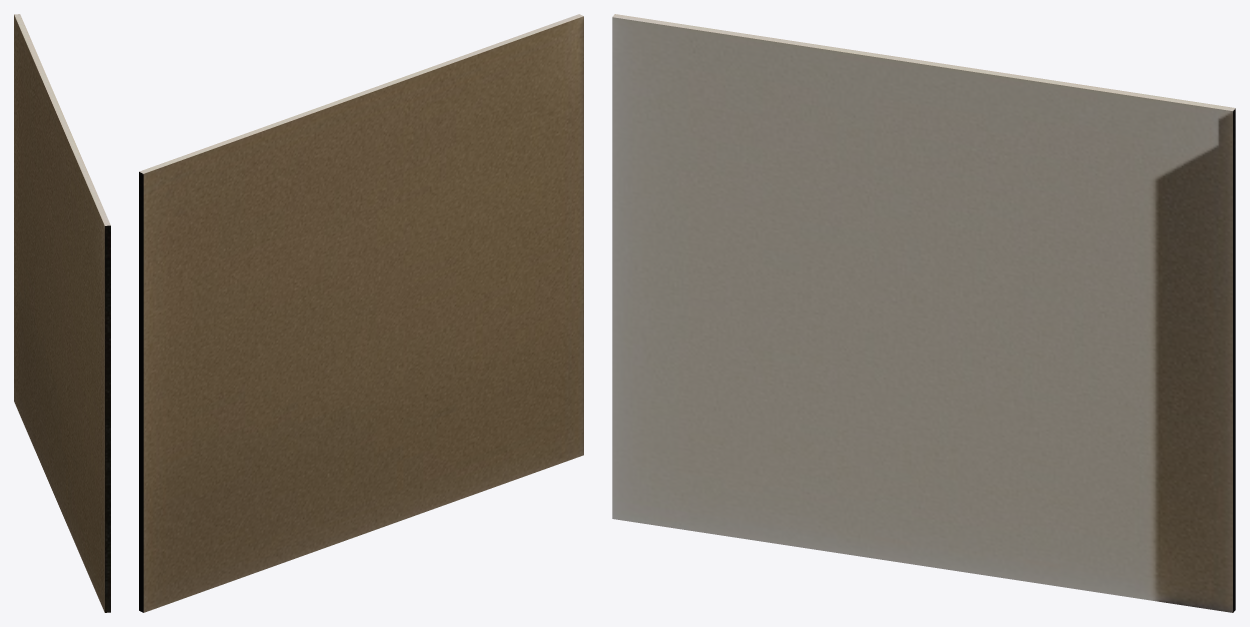
The model's file is Building_05_App_05_Glass.fbx.
The picture shows the model from 3 angles, left to right: view 1: azimuth 30°, elevation 25°; view 2: azimuth 150°, elevation 25°; view 3: azimuth 270°, elevation 25°; orthographic projection. The views are drawn at different scales.
Parts seen in each view (by area): view 1: Building_05_App_05_Glass; view 2: Building_05_App_05_Glass; view 3: Building_05_App_05_Glass.
Part boxes in pixels (box(x1,y1,x2,y2)): Building_05_App_05_Glass: box(14, 14, 110, 612); Building_05_App_05_Glass: box(139, 14, 583, 612); Building_05_App_05_Glass: box(612, 14, 1235, 612).
Bounding box in the file's own units: 0.5753 × 1.38 × 1.56.
1 material, 1 textured.
